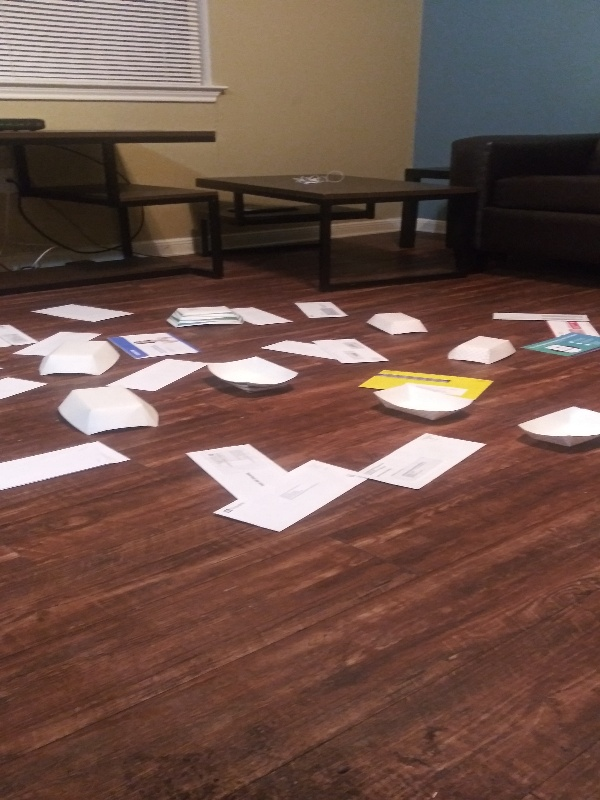plate: (56, 383, 163, 439), (367, 378, 476, 424), (513, 403, 600, 454), (35, 335, 124, 384), (200, 354, 303, 394), (161, 301, 248, 331), (444, 332, 518, 366), (364, 308, 432, 336)
